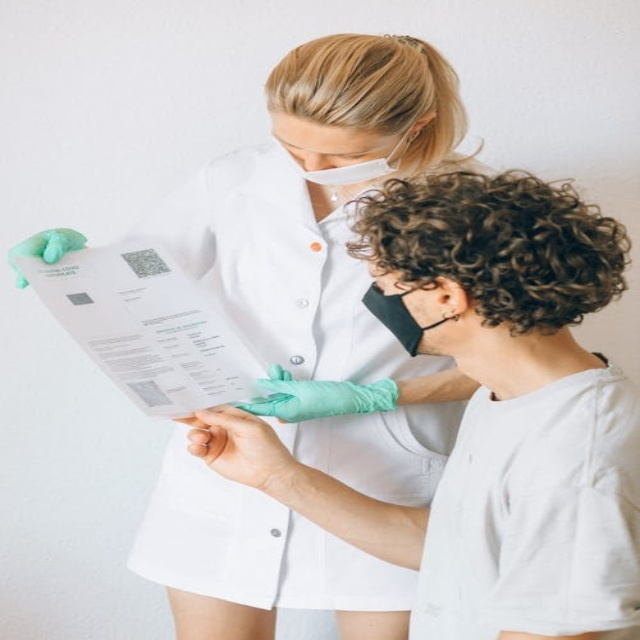Guantes: (233, 364, 400, 422), (7, 228, 89, 288)
Mascara: (296, 124, 415, 187), (360, 282, 427, 357)
Sin_gafas: (268, 138, 383, 166)
Sin_guantes: (181, 404, 299, 490)
